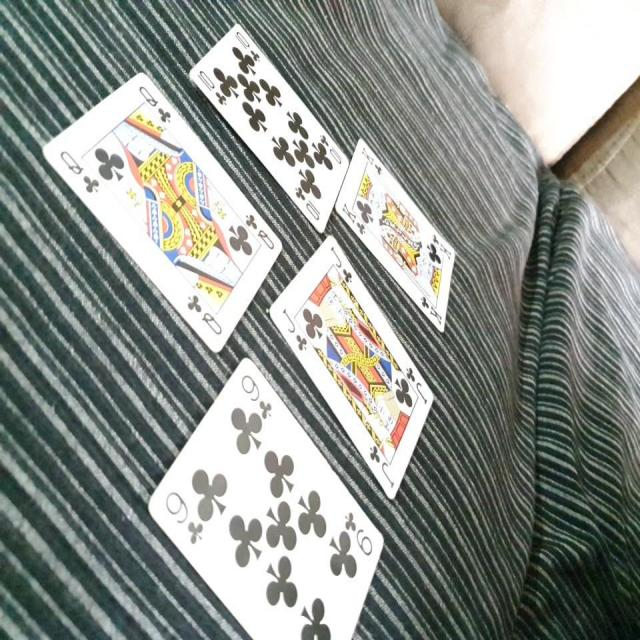10 Trefoils: (190, 23, 351, 237)
9 Trefoils: (146, 357, 386, 640)
J Trefoils: (267, 234, 434, 501)
K Trefoils: (335, 139, 458, 336)
Q Trefoils: (40, 74, 279, 354)
